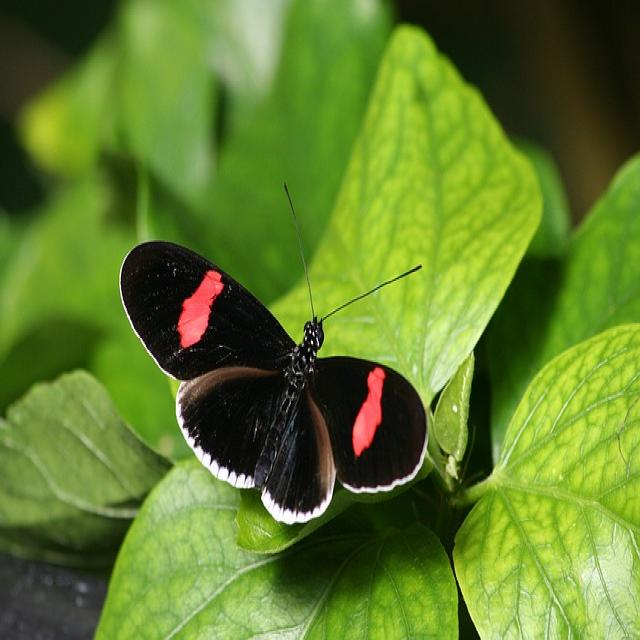butterfly: (121, 242, 430, 527)
